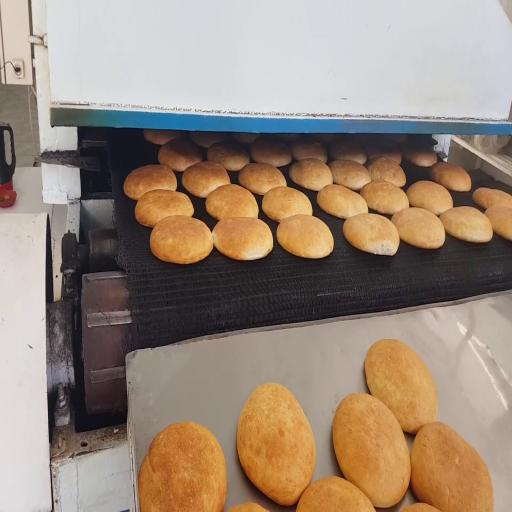bread: (237, 384, 315, 505), (333, 394, 410, 507), (138, 422, 226, 511), (411, 422, 493, 511), (365, 339, 437, 433), (150, 216, 213, 264), (297, 476, 374, 511), (212, 218, 273, 260), (277, 215, 333, 258), (343, 214, 399, 255), (135, 190, 194, 227), (392, 208, 445, 248), (440, 207, 492, 243), (124, 165, 177, 200), (206, 184, 258, 219), (262, 187, 312, 222), (182, 162, 230, 198), (317, 185, 367, 219), (361, 180, 409, 215), (407, 181, 453, 215), (239, 164, 286, 195), (158, 139, 202, 172), (289, 159, 332, 191), (329, 160, 371, 191), (207, 142, 250, 171), (367, 157, 406, 187), (431, 162, 471, 191), (251, 138, 291, 166), (485, 206, 511, 240), (291, 139, 327, 163), (330, 141, 366, 164), (473, 188, 511, 209), (402, 146, 437, 167), (366, 143, 401, 164), (144, 129, 184, 145), (189, 132, 228, 148), (228, 503, 268, 511), (232, 133, 261, 144), (402, 503, 439, 511), (268, 133, 299, 142), (315, 134, 341, 144), (388, 134, 407, 143)
